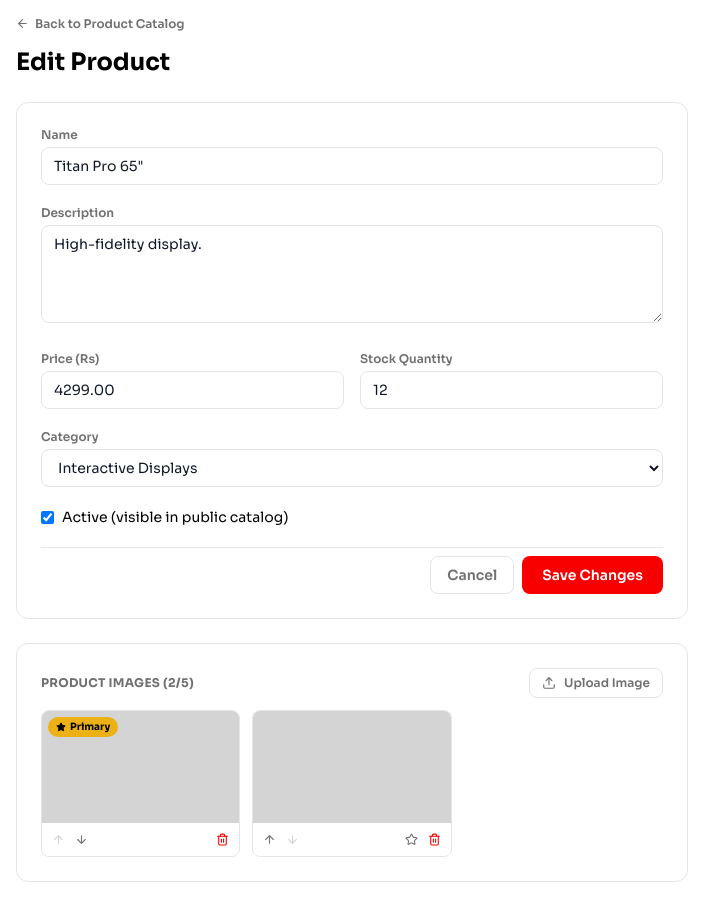
it: Admin ProductForm › shows an error when reordering images fails
This screenshot has width=705, height=912.
Expected: the heading "Product Images (2/5)" is shown, [41,675,194,691]
Click the button titled "Move right" below "Primary" at (82,840), box [71,829,92,850]
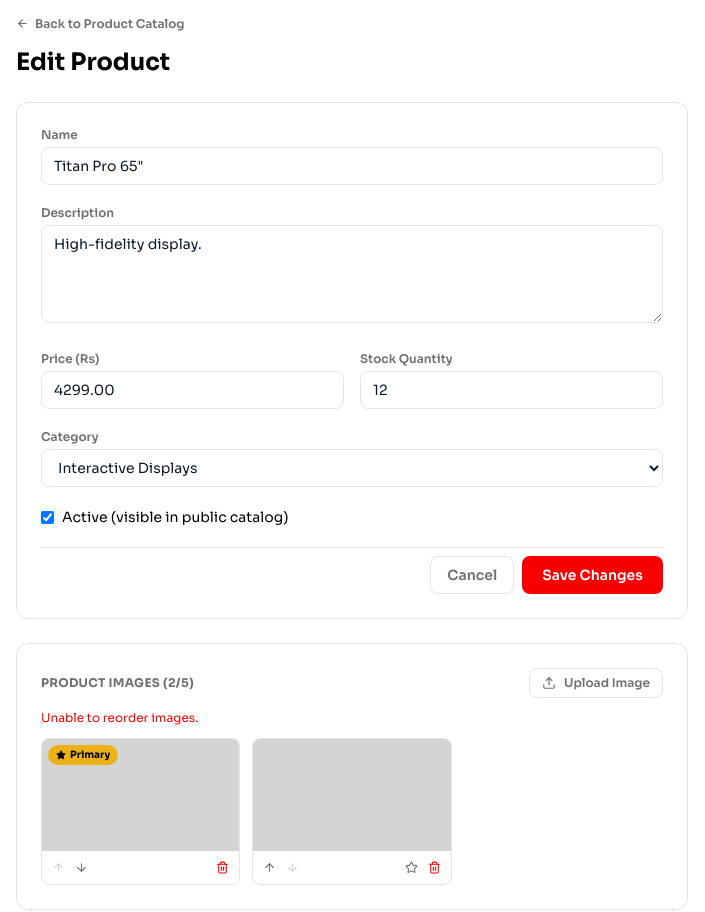
Expected: the text "Unable to reorder images." is shown, [41,710,198,725]
